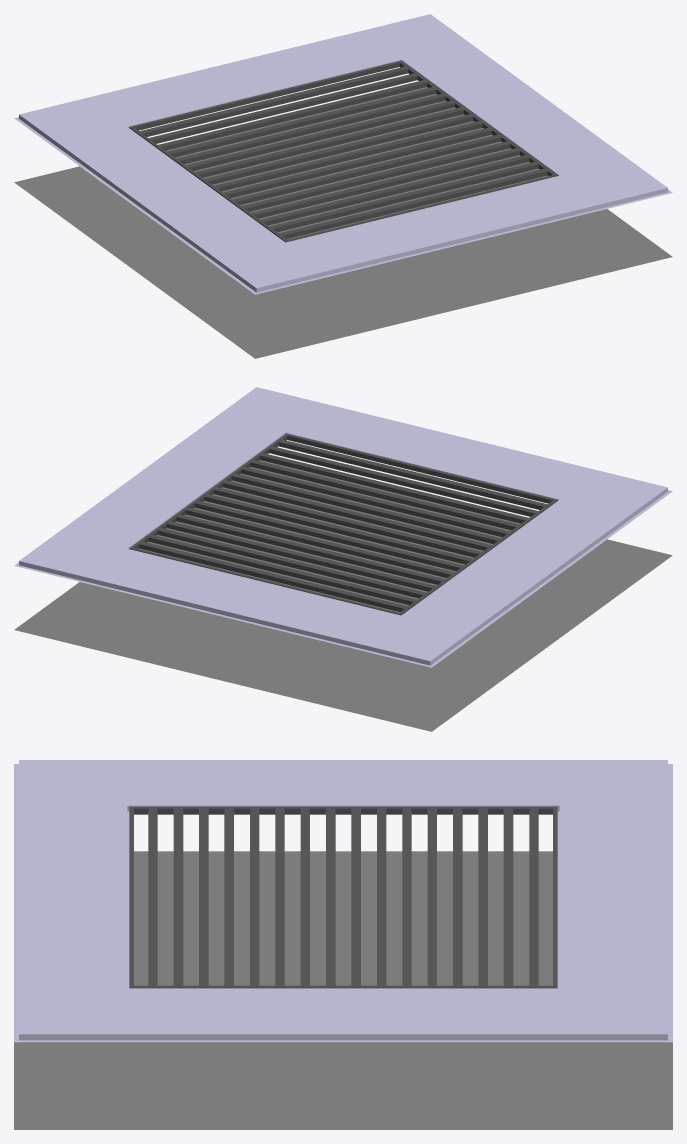
Rendered from FloorGrate.fbx.
3 views of the same model, one above another, from view 1: azimuth 30°, elevation 25°; view 2: azimuth 150°, elevation 25°; view 3: azimuth 270°, elevation 25° (orthographic). The views are drawn at different scales.
Parts seen in each view (by area): view 1: FloorGrate; view 2: FloorGrate; view 3: FloorGrate.
Boxes of the visible parts, x1,y1,x2,y2 form: FloorGrate: (14,14,672,358); FloorGrate: (14,387,672,731); FloorGrate: (14,760,672,1129).
Size of the model in its own units: 200 by 31.33 by 200.
